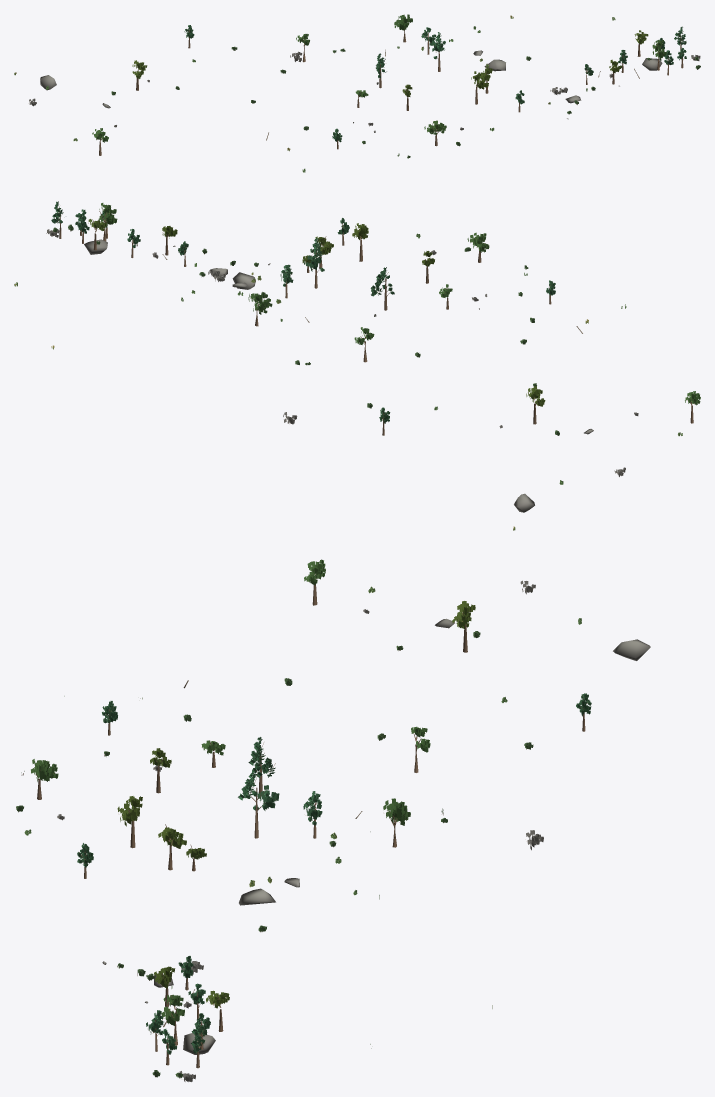
File: arch_land_scatter_c17_21.glb
The picture shows the model from 3 angles, top to bottom: view 1: azimuth 30°, elevation 25°; view 2: azimuth 150°, elevation 25°; view 3: azimuth 270°, elevation 25°; orthographic projection. The views are drawn at different scales.
Parts seen in each view (by area): view 1: arch_land_scatter_c17_21; view 2: arch_land_scatter_c17_21; view 3: arch_land_scatter_c17_21.
Boxes of the visible parts, <box> form: arch_land_scatter_c17_21: <box>14,14,700,172</box>; arch_land_scatter_c17_21: <box>14,201,700,530</box>; arch_land_scatter_c17_21: <box>16,559,650,1081</box>.
Bounding box in the file's own units: 195 × 24.89 × 121.
